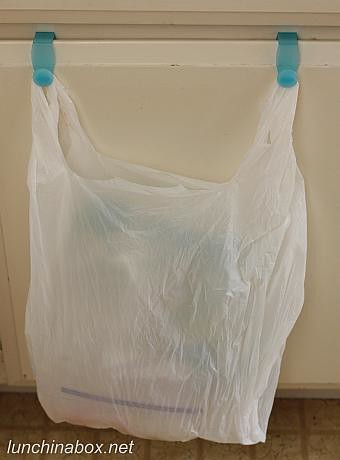plastic bag: (23, 72, 308, 445)
